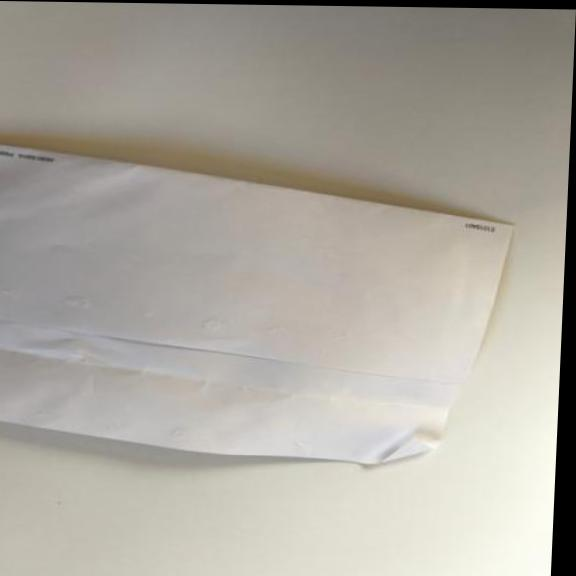Kertas: (0, 136, 538, 476)
